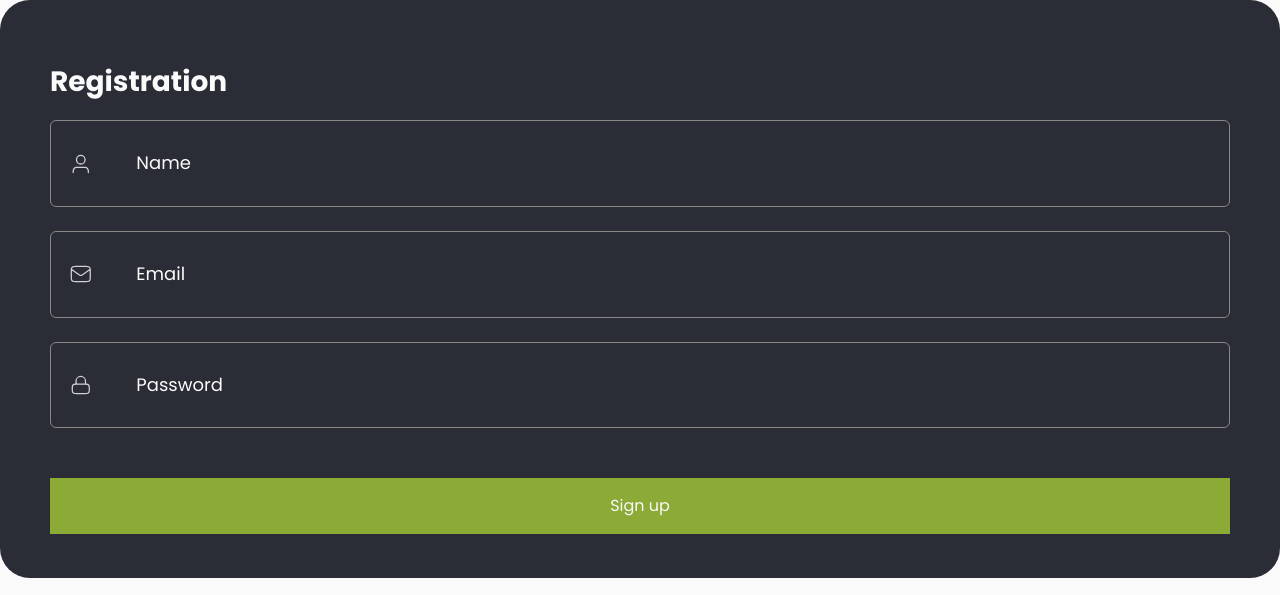
Test case: RegisterForm › form validation › should show error for invalid email
Step 1. Type "invalid-email" into the field with placeholder "Email" → (656, 274), box x1=100 y1=248 x2=1211 y2=301
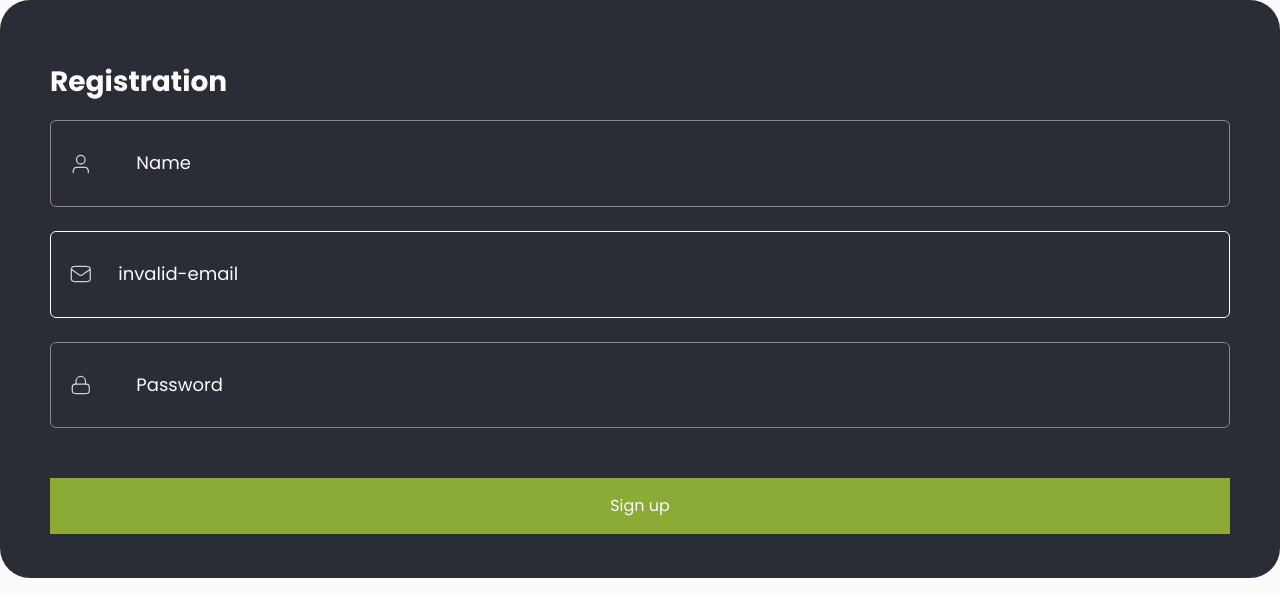
Step 2. Leave the field with placeholder "Email", box x1=100 y1=248 x2=1211 y2=301
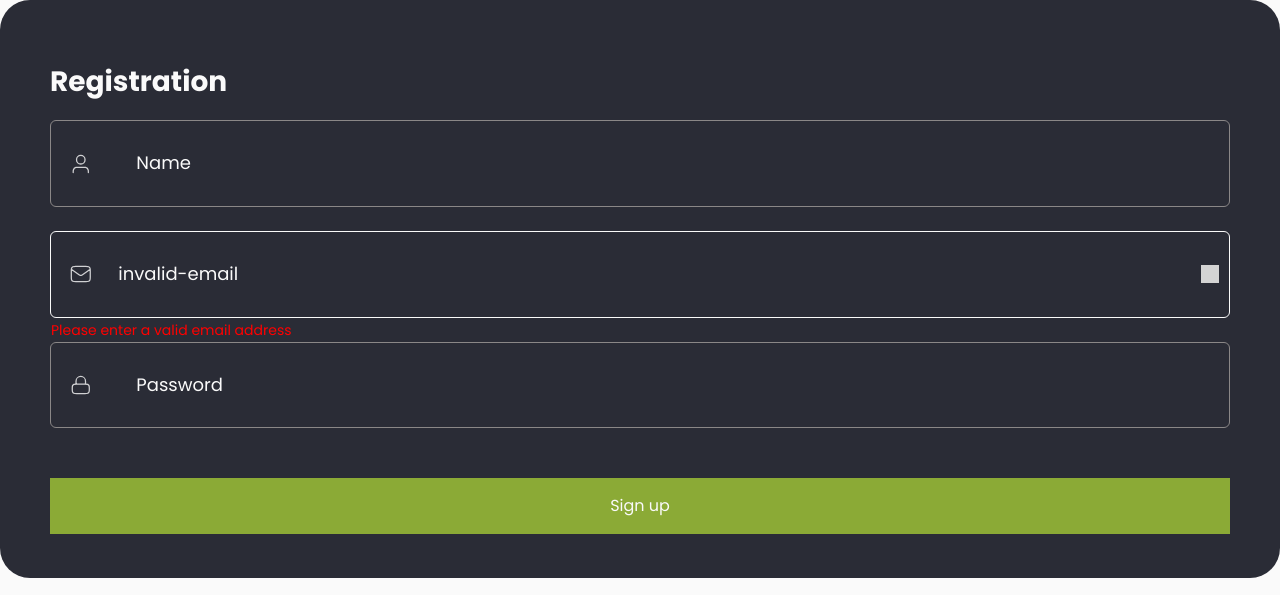
Check: the text "Please enter a valid email address" is shown, box x1=51 y1=322 x2=296 y2=338
